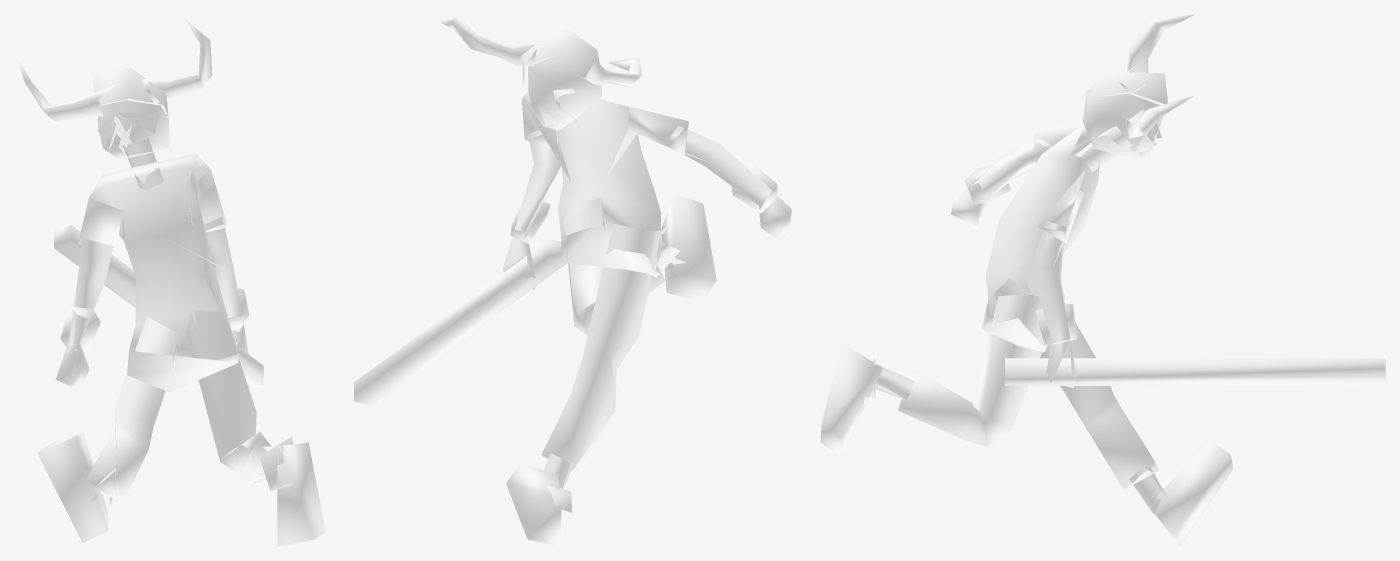
Rendered from ps2_save-icons_ico.glb.
The picture shows the model from 3 angles, left to right: view 1: azimuth 30°, elevation 25°; view 2: azimuth 150°, elevation 25°; view 3: azimuth 270°, elevation 25°; orthographic projection. The views are drawn at different scales.
Parts seen in each view (by area): view 1: boy_blk.ico; view 2: boy_blk.ico; view 3: boy_blk.ico.
Part boxes in pixels (<box>): boy_blk.ico: <box>14,14,325,546</box>; boy_blk.ico: <box>354,14,791,546</box>; boy_blk.ico: <box>820,14,1385,546</box>.
Bounding box in the file's own units: 1.51 × 2.97 × 3.08.
Materials: 1 (1 with a texture image).
